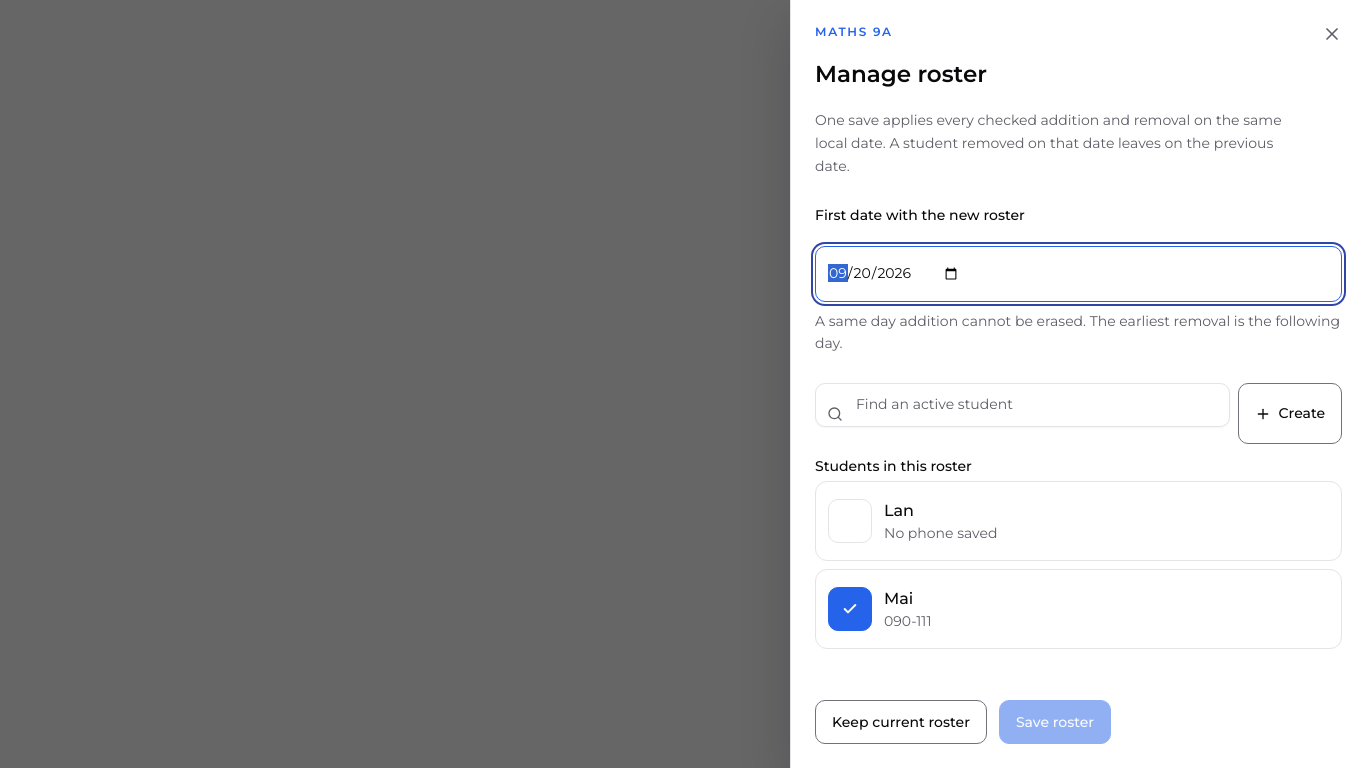
Scenario: RosterManagementSheet › keeps the staged delta while creating a missing student
This screenshot has width=1366, height=768.
Click the checkbox named "Lan" next to "Lan" at coordinates (850, 521), box left=828, top=499, right=872, bottom=543
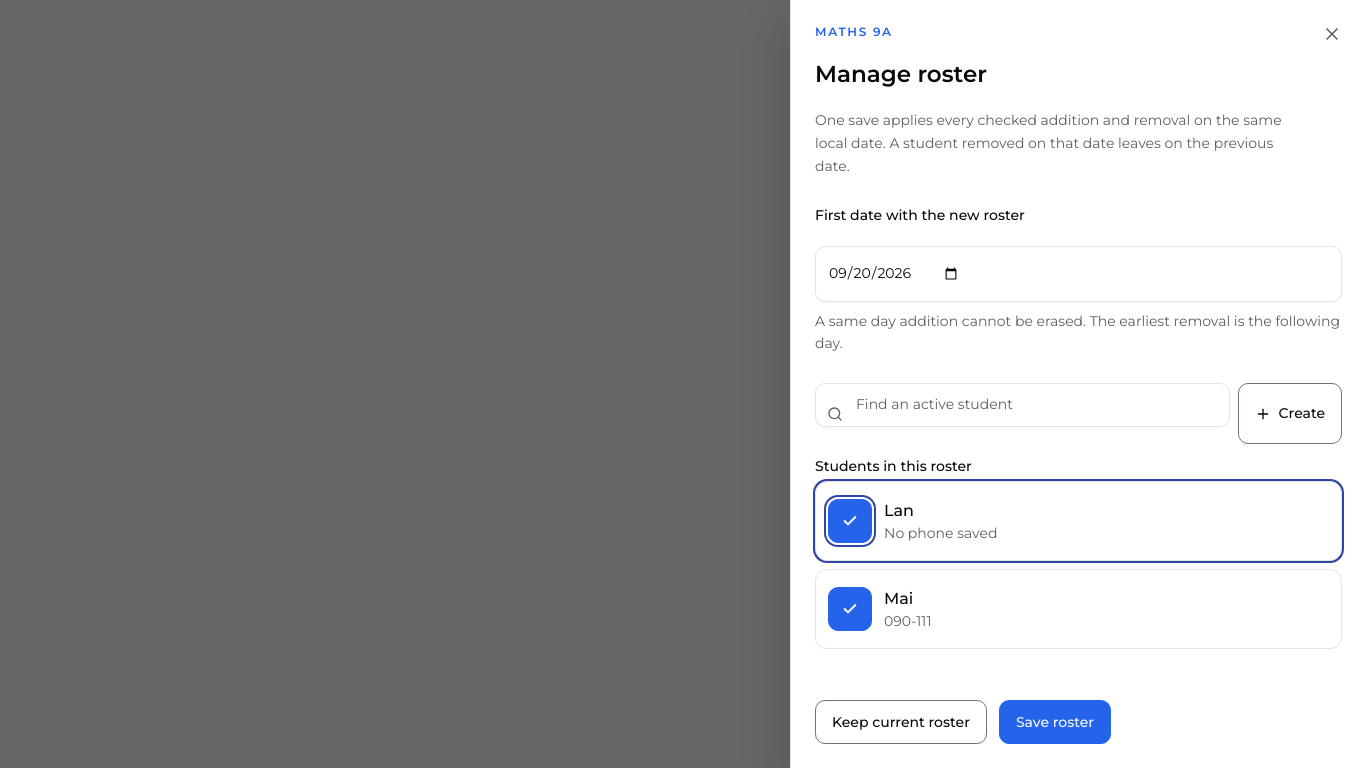
Click the button "Create" at coordinates (1290, 414), box left=1238, top=383, right=1342, bottom=444
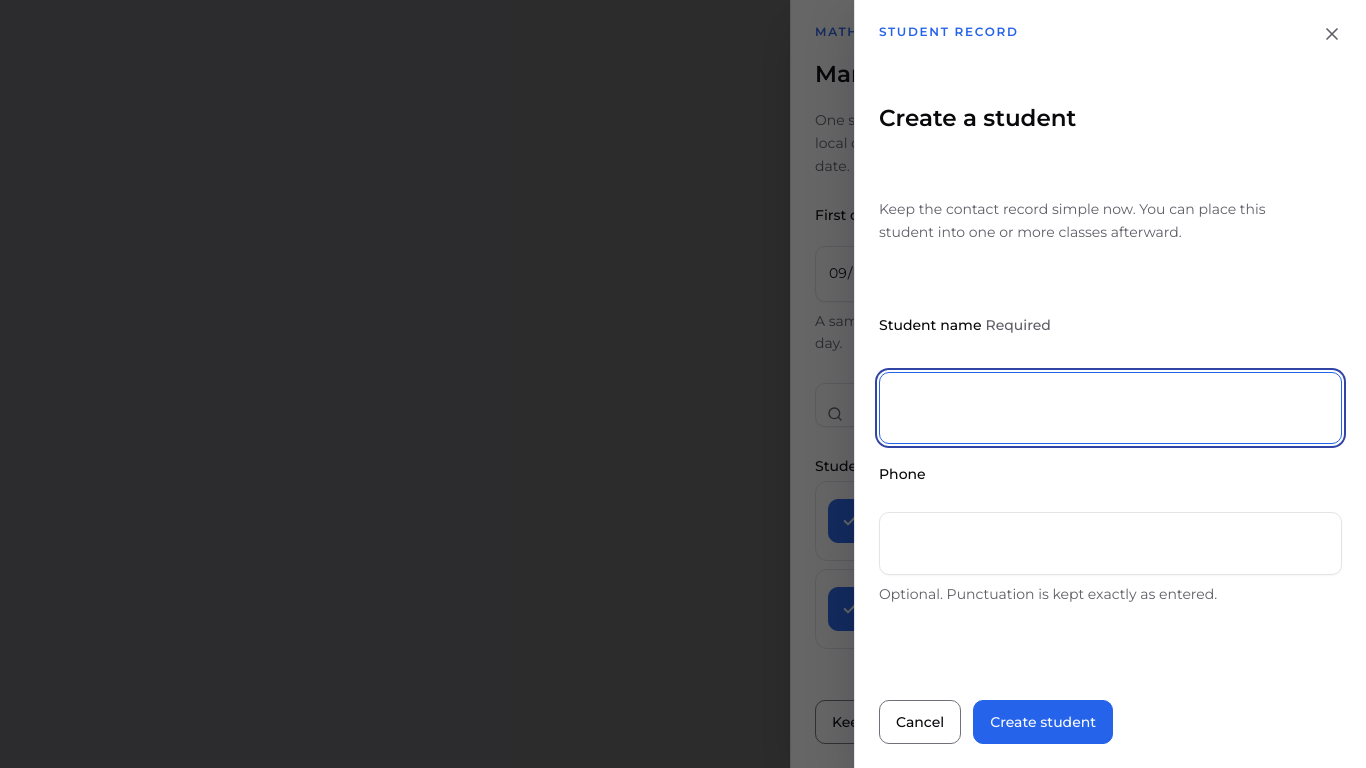
Type "Nhi" into the field labelled "Student name" at coordinates (1110, 408), box left=879, top=372, right=1342, bottom=444
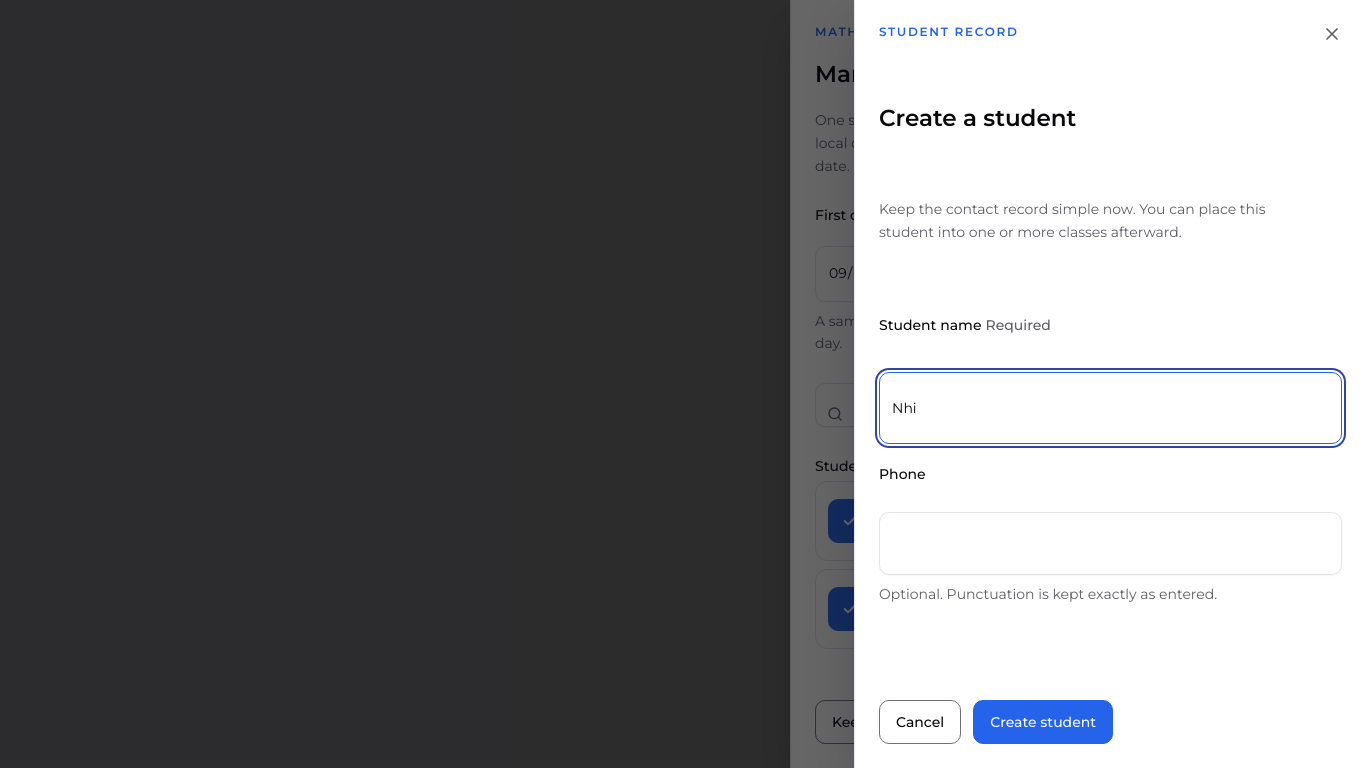
Click the button "Create student" at coordinates (1043, 722), box left=973, top=700, right=1113, bottom=744
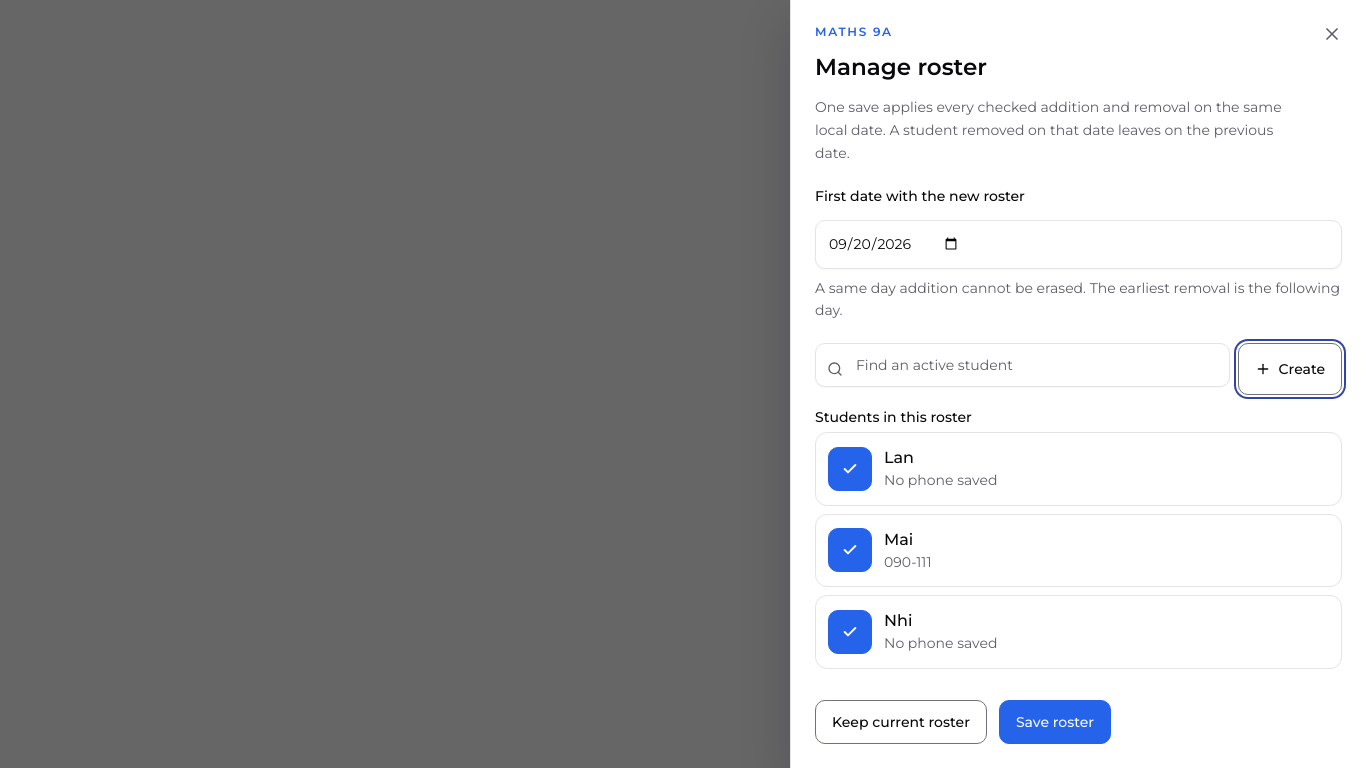
Now the checkbox named "Lan" next to "Lan" is checked, box left=828, top=447, right=872, bottom=491
Now the checkbox named "Nhi" next to "Nhi" is checked, box left=828, top=610, right=872, bottom=654
